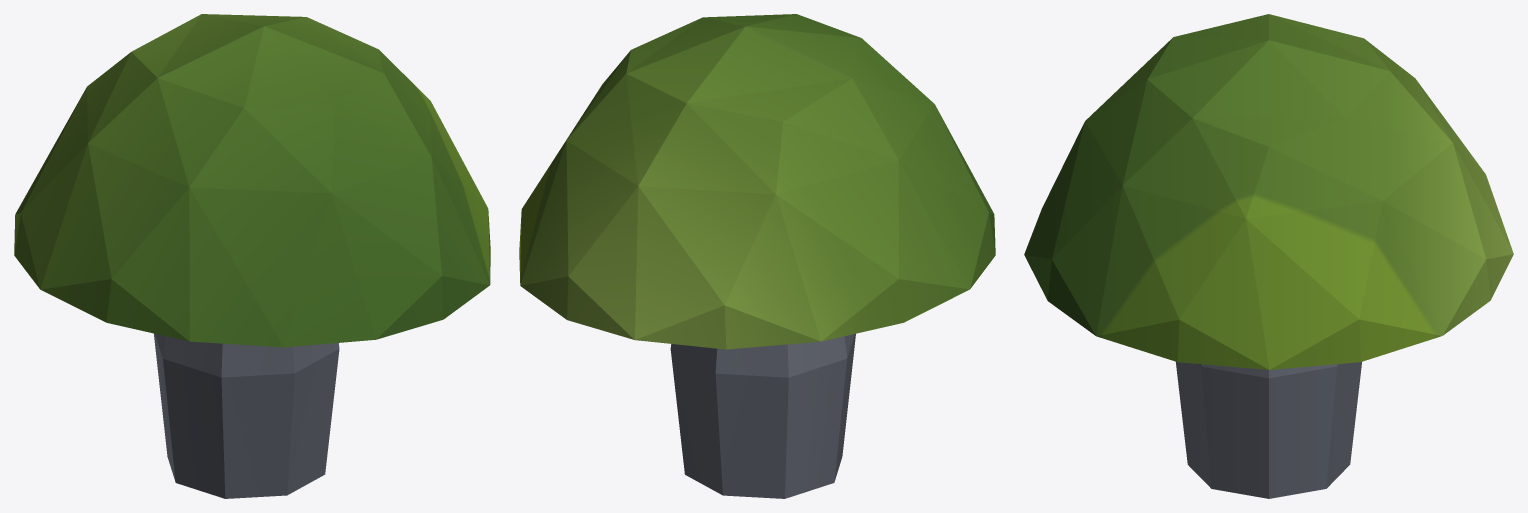
File: Mushroom_13.fbx
3 views of the same model, side by side, from view 1: azimuth 30°, elevation 25°; view 2: azimuth 150°, elevation 25°; view 3: azimuth 270°, elevation 25° (orthographic).
Parts seen in each view (by area): view 1: Mushroom_13; view 2: Mushroom_13; view 3: Mushroom_13.
Boxes of the visible parts, bbox=[...] form: Mushroom_13: bbox=[14, 14, 490, 498]; Mushroom_13: bbox=[519, 14, 995, 498]; Mushroom_13: bbox=[1024, 14, 1513, 498].
Size of the model in its own units: 0.696 by 0.6802 by 0.697.
